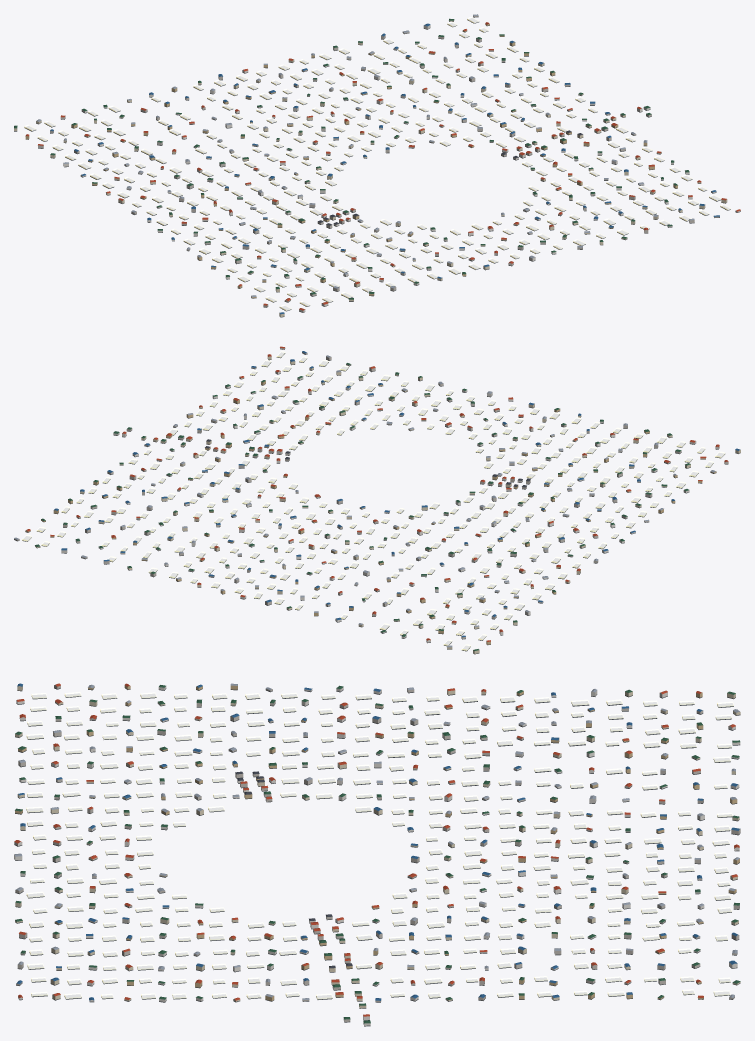
File: buildings_T_W06_S02.glb
The picture shows the model from 3 angles, top to bottom: view 1: azimuth 30°, elevation 25°; view 2: azimuth 150°, elevation 25°; view 3: azimuth 270°, elevation 25°; orthographic projection. The views are drawn at different scales.
Parts seen in each view (by area): view 1: T_W06_S02_roofs_agri_greenhouse_arch, T_W06_S02_slope_seating_foundations, T_W06_S02_walls_wall_pastel_sand_gray, T_W06_S02_walls_wall_dalat_cream_stucco, T_W06_S02_walls_wall_modern_warm_white, T_W06_S02_roofs_roof_pine_green_hip, T_W06_S02_walls_wall_french_ochre_villa, T_W06_S02_roofs_roof_terracotta_gable, T_W06_S02_roofs_roof_highland_blue_gable, T_W06_S02_roofs_roof_zinc_silver_gable; view 2: T_W06_S02_roofs_agri_greenhouse_arch, T_W06_S02_slope_seating_foundations, T_W06_S02_walls_wall_pastel_sand_gray, T_W06_S02_walls_wall_dalat_cream_stucco, T_W06_S02_walls_wall_modern_warm_white, T_W06_S02_roofs_roof_pine_green_hip, T_W06_S02_walls_wall_french_ochre_villa, T_W06_S02_roofs_roof_terracotta_gable, T_W06_S02_roofs_roof_highland_blue_gable, T_W06_S02_roofs_roof_zinc_silver_gable; view 3: T_W06_S02_roofs_agri_greenhouse_arch, T_W06_S02_slope_seating_foundations, T_W06_S02_walls_wall_pastel_sand_gray, T_W06_S02_walls_wall_dalat_cream_stucco, T_W06_S02_walls_wall_modern_warm_white, T_W06_S02_roofs_roof_pine_green_hip, T_W06_S02_roofs_roof_terracotta_gable, T_W06_S02_walls_wall_french_ochre_villa, T_W06_S02_roofs_roof_highland_blue_gable, T_W06_S02_roofs_roof_zinc_silver_gable.
Part boxes in pixels (x1,y1,x2,y2): T_W06_S02_roofs_agri_greenhouse_arch: (24, 17, 730, 310); T_W06_S02_slope_seating_foundations: (14, 16, 740, 317); T_W06_S02_walls_wall_pastel_sand_gray: (50, 15, 719, 307); T_W06_S02_walls_wall_dalat_cream_stucco: (14, 20, 727, 316); T_W06_S02_walls_wall_modern_warm_white: (38, 25, 740, 312); T_W06_S02_roofs_roof_pine_green_hip: (14, 18, 689, 299); T_W06_S02_walls_wall_french_ochre_villa: (25, 24, 677, 298); T_W06_S02_roofs_roof_terracotta_gable: (25, 22, 740, 310); T_W06_S02_roofs_roof_highland_blue_gable: (50, 23, 719, 314); T_W06_S02_roofs_roof_zinc_silver_gable: (36, 14, 694, 297); T_W06_S02_roofs_agri_greenhouse_arch: (22, 351, 725, 650); T_W06_S02_slope_seating_foundations: (14, 349, 740, 654); T_W06_S02_walls_wall_pastel_sand_gray: (14, 352, 728, 638); T_W06_S02_walls_wall_dalat_cream_stucco: (35, 356, 740, 653); T_W06_S02_walls_wall_modern_warm_white: (61, 347, 719, 642); T_W06_S02_roofs_roof_pine_green_hip: (35, 363, 690, 650); T_W06_S02_walls_wall_french_ochre_villa: (25, 381, 716, 644); T_W06_S02_roofs_roof_terracotta_gable: (26, 346, 728, 641); T_W06_S02_roofs_roof_highland_blue_gable: (54, 351, 740, 637); T_W06_S02_roofs_roof_zinc_silver_gable: (14, 355, 716, 647); T_W06_S02_roofs_agri_greenhouse_arch: (26, 691, 733, 999); T_W06_S02_slope_seating_foundations: (14, 687, 740, 1026); T_W06_S02_walls_wall_pastel_sand_gray: (15, 685, 740, 1021); T_W06_S02_walls_wall_dalat_cream_stucco: (15, 685, 740, 1008); T_W06_S02_walls_wall_modern_warm_white: (14, 686, 740, 1025); T_W06_S02_roofs_roof_pine_green_hip: (15, 685, 740, 1023); T_W06_S02_roofs_roof_terracotta_gable: (14, 683, 739, 1016); T_W06_S02_walls_wall_french_ochre_villa: (15, 685, 739, 1000); T_W06_S02_roofs_roof_highland_blue_gable: (16, 683, 740, 1000); T_W06_S02_roofs_roof_zinc_silver_gable: (14, 683, 739, 999).
Size of the model in its own units: 1859 by 41.6 by 1732.
